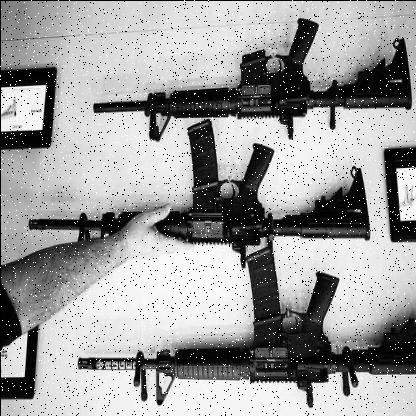rifle: (64, 247, 416, 410), (19, 117, 374, 263), (81, 14, 410, 133)
